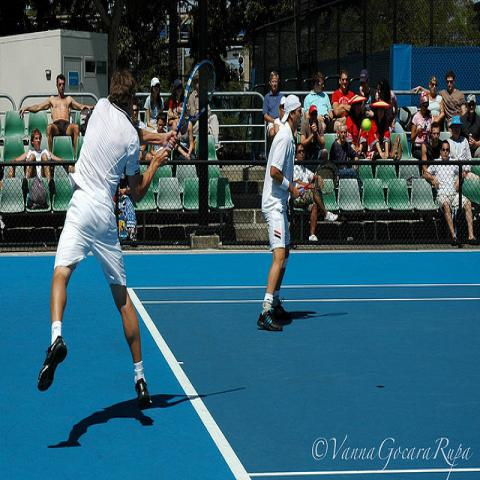truck: (0, 28, 108, 112)
